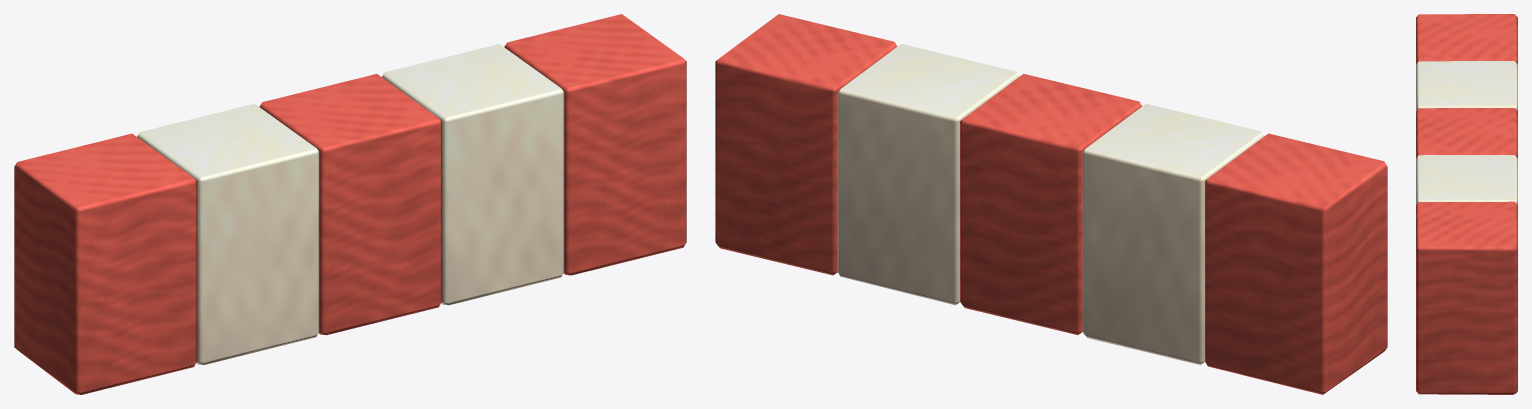
File: race_safety_barrier.glb
The picture shows the model from 3 angles, left to right: view 1: azimuth 30°, elevation 25°; view 2: azimuth 150°, elevation 25°; view 3: azimuth 270°, elevation 25°; orthographic projection. The views are drawn at different scales.
Visible parts, largest first — view 1: Body; view 2: Body; view 3: Body.
Part boxes in pixels (left/top/right/bottom): Body: left=14, top=14, right=686, bottom=394; Body: left=715, top=14, right=1387, bottom=394; Body: left=1416, top=14, right=1517, bottom=394.
Size of the model in its own units: 1.8 by 0.5301 by 0.33.
1 material, 1 textured.
